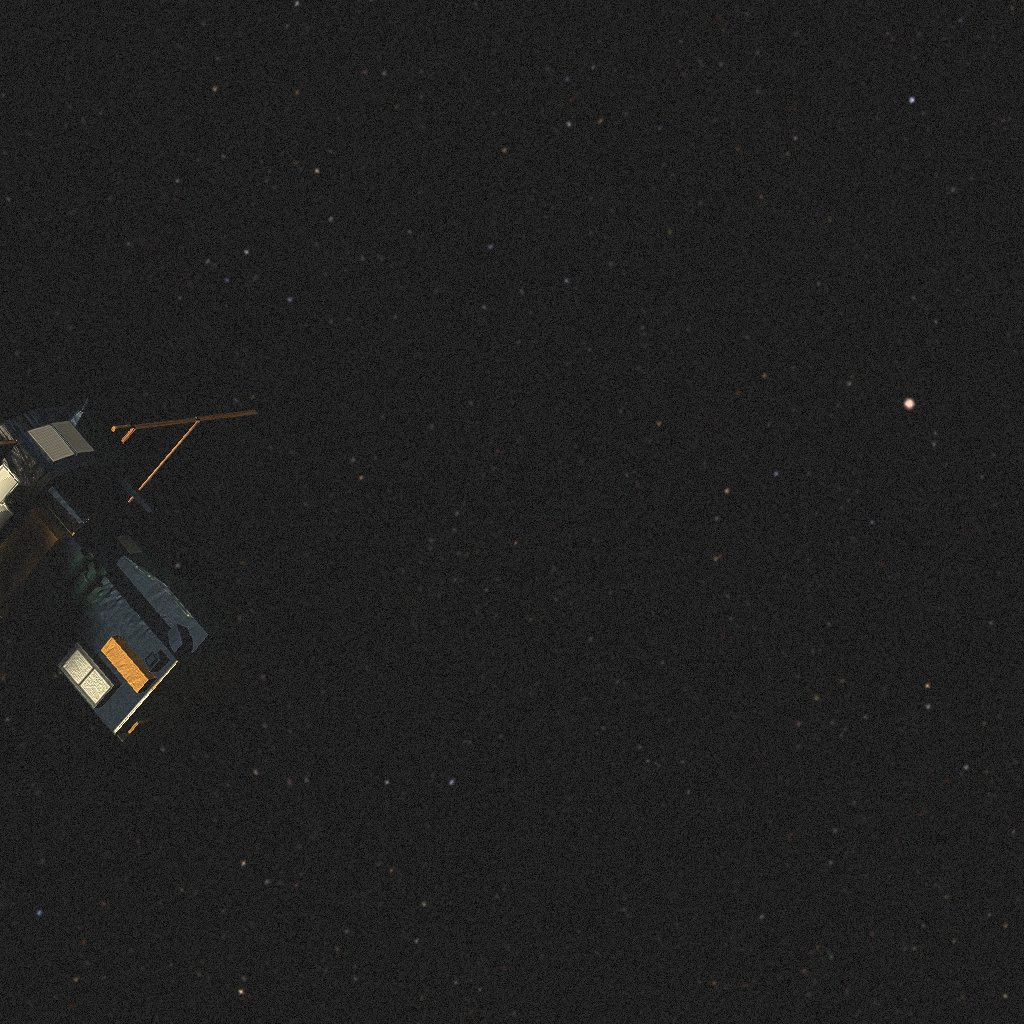soho: (0, 398, 258, 742)
